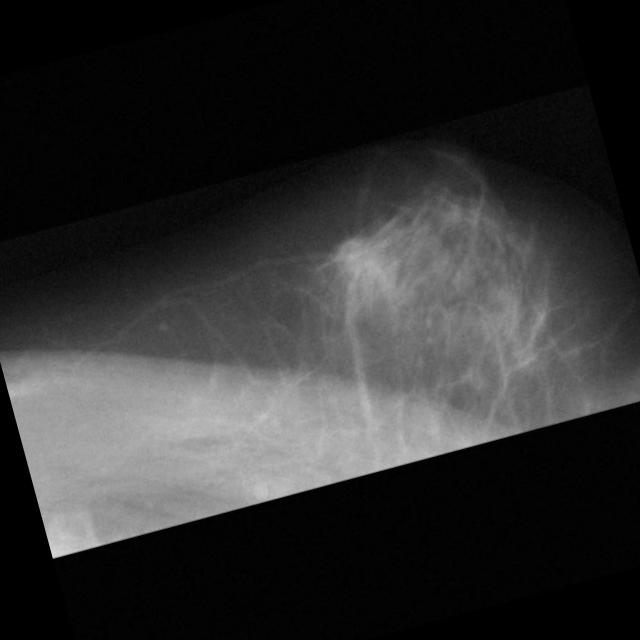MISC: (328, 228, 382, 284)
